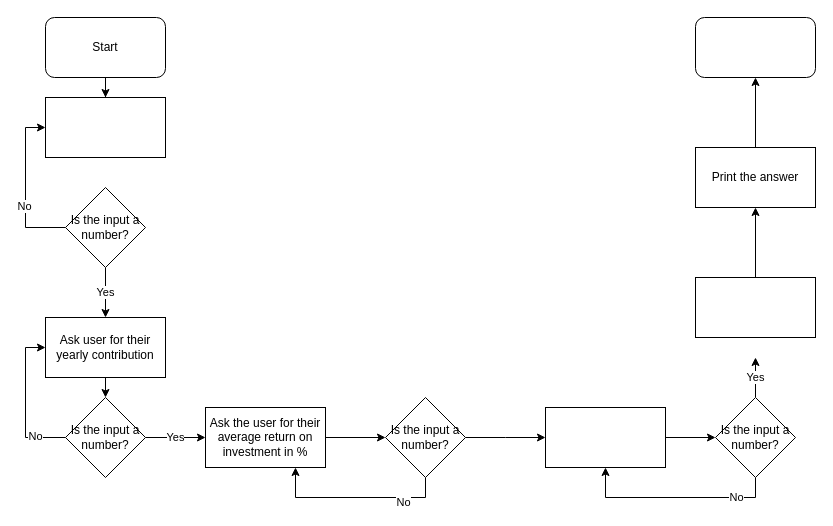
This 833x526 diagram has some shape labels left out. The box of each missing label's shape, as (x1, y1, x2, y2) in pixels:
Ask the user for the number of years for the report: (544, 406, 666, 468)
Ask user for their starting balance: (44, 96, 166, 158)
Calculate the balance: (694, 276, 816, 338)
End: (694, 16, 816, 78)
